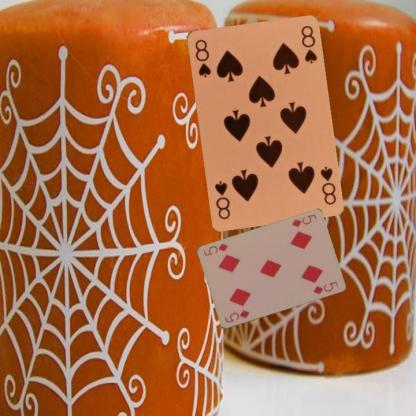5d: (288, 212, 318, 229), (222, 308, 251, 324)
8s: (318, 163, 338, 206), (192, 36, 212, 78)
